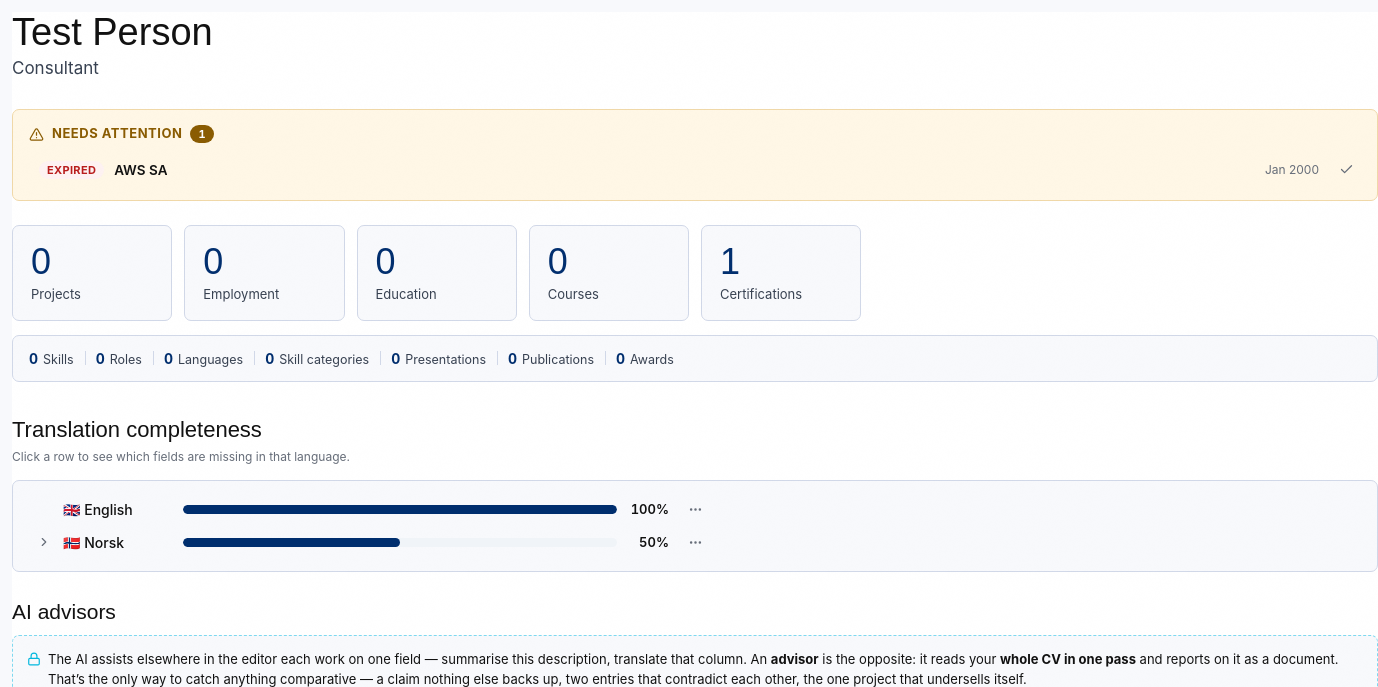
Test: <Overview> needs-attention panel (F3) › dismissing a warning snoozes it and removes it from the active list
This screenshot has width=1378, height=687.
Click the button named "dismiss the warning for AWS SA" at (1346, 170), box top-left (1331, 155), bottom-right (1361, 185)
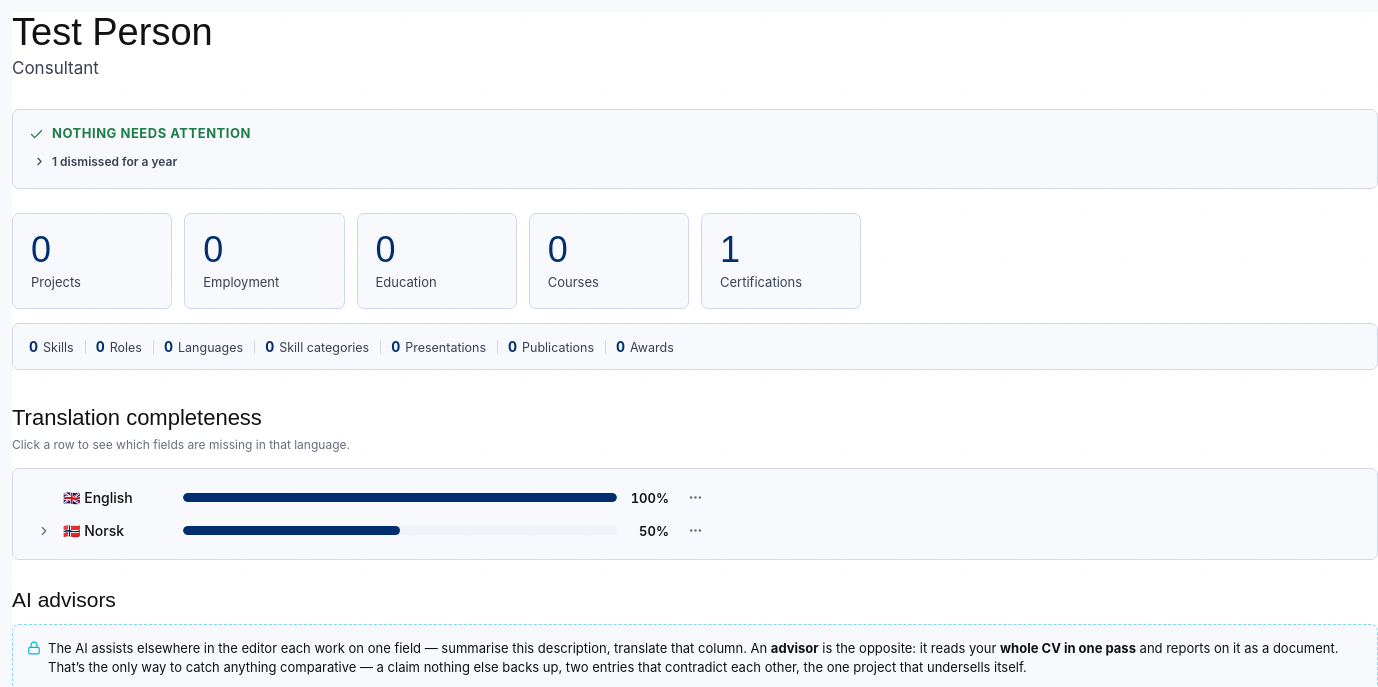
Expected: the button "Expired" is gone
Expected: the button "1 dismissed for a year" is shown, top-left (29, 152), bottom-right (181, 171)
